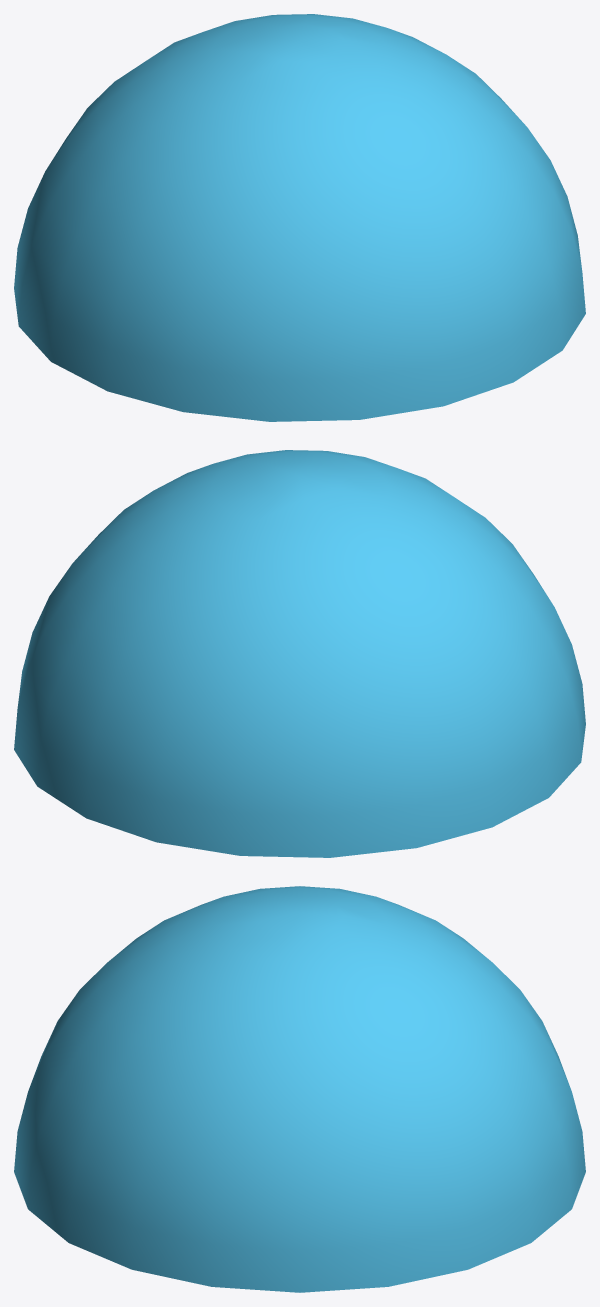
Rendered from MockExterior.fbx.
The picture shows the model from 3 angles, top to bottom: view 1: azimuth 30°, elevation 25°; view 2: azimuth 150°, elevation 25°; view 3: azimuth 270°, elevation 25°; orthographic projection.
Parts seen in each view (by area): view 1: Exterior_CitySky; view 2: Exterior_CitySky; view 3: Exterior_CitySky.
Boxes of the visible parts, x1,y1,x2,y2 form: Exterior_CitySky: [14, 14, 585, 421]; Exterior_CitySky: [14, 450, 585, 857]; Exterior_CitySky: [14, 886, 585, 1292].
Size of the model in its own units: 512 by 256 by 512.
